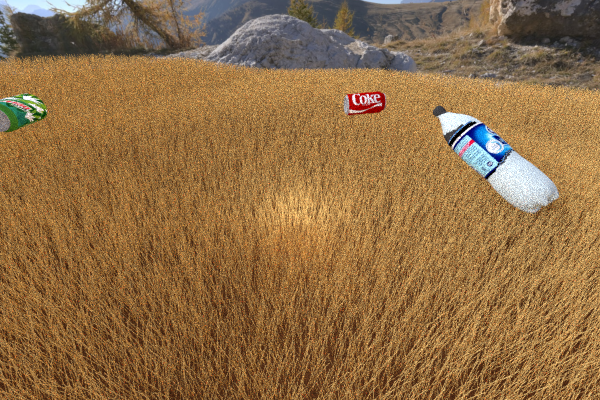Plastic Bottle: (432, 105, 557, 212), (247, 97, 275, 131)
